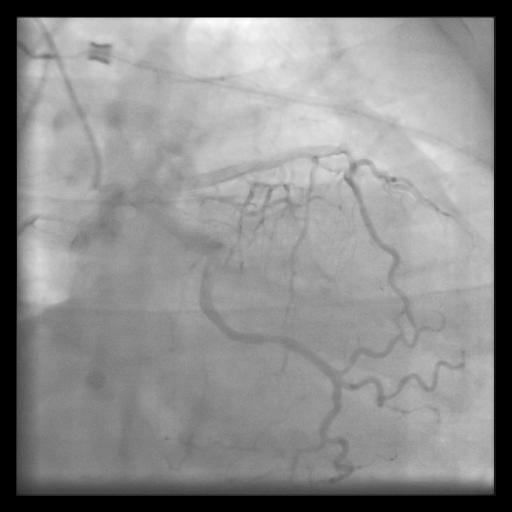Stenosis: (263, 332, 283, 343)
